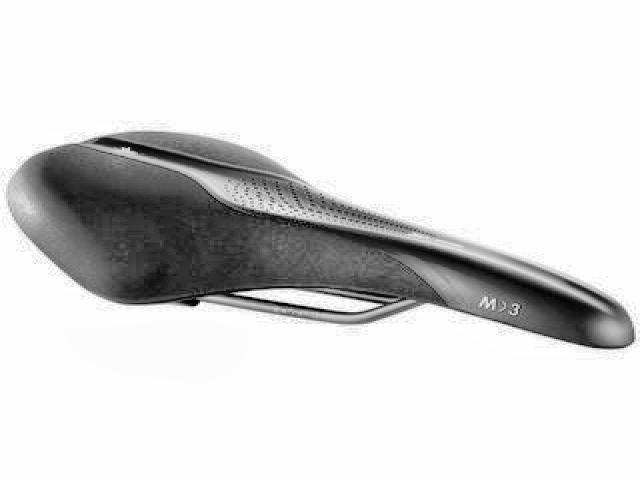saddle: (7, 122, 638, 350)
